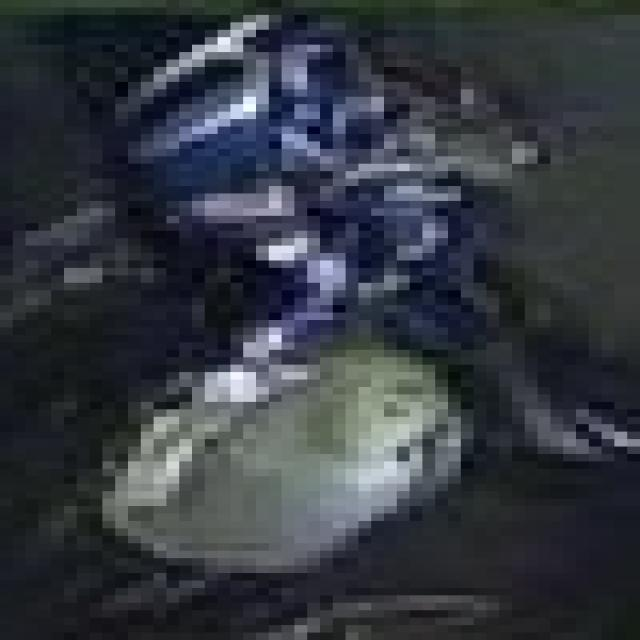can: (0, 24, 639, 638)
